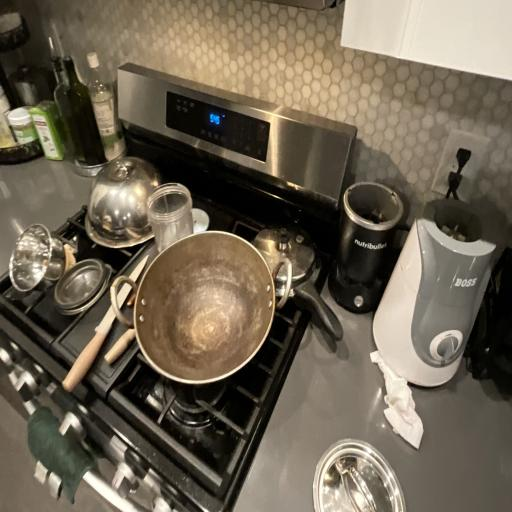Pan: (104, 210, 315, 392)
Stove: (0, 114, 323, 512)
knife: (62, 243, 151, 402)
